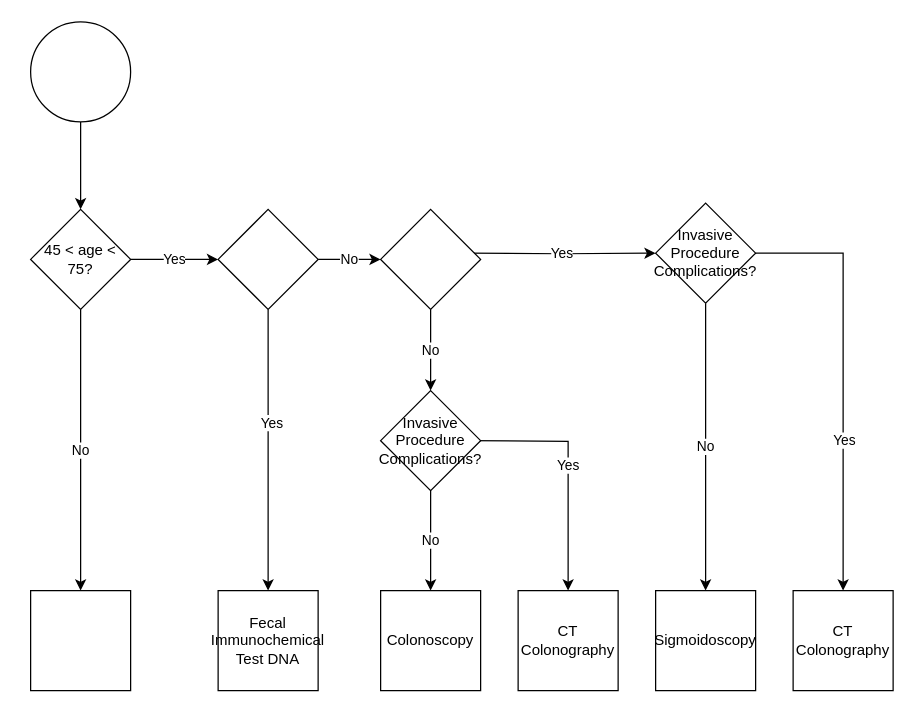
Image size: 915x713. Some labels were removed from this diagram. The shapes that lost their labels are listed below. From the top down, each one's centre as x and y in pixels, then its label:
At (x=267, y=258): "Insurance concern?".
At (x=430, y=258): "Sedation a Concern?".
At (x=80, y=640): "No Recommendation".
